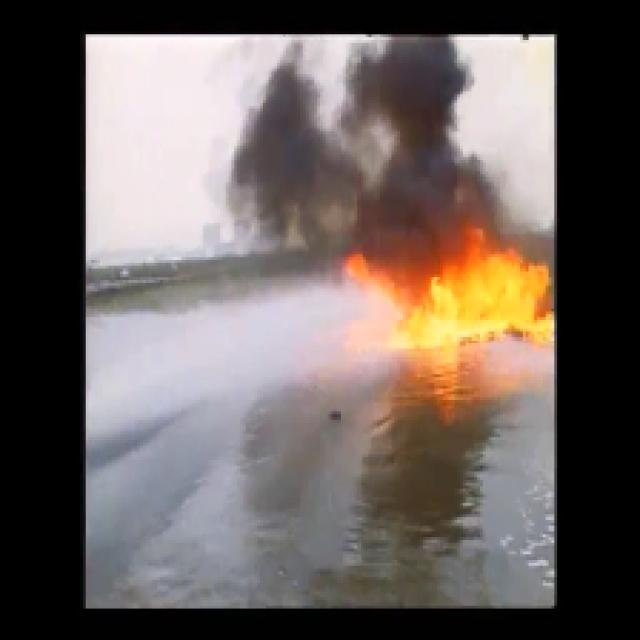fire: (383, 256, 554, 354)
smoke: (238, 40, 497, 234)
